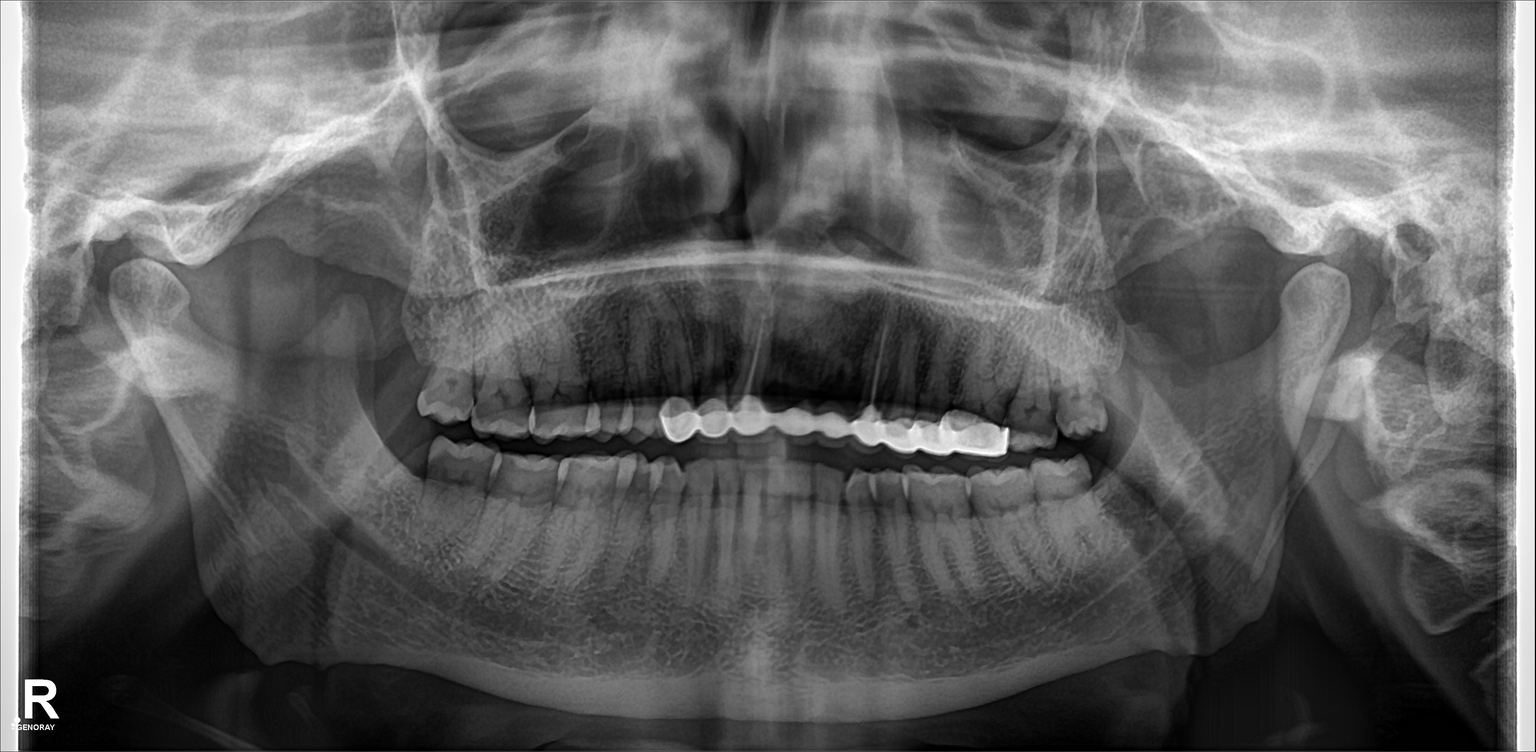Endodontically Treated Tooth: (728, 318, 767, 436), (857, 316, 885, 439)
Missing Tooth: (372, 305, 426, 390), (382, 419, 425, 500)
